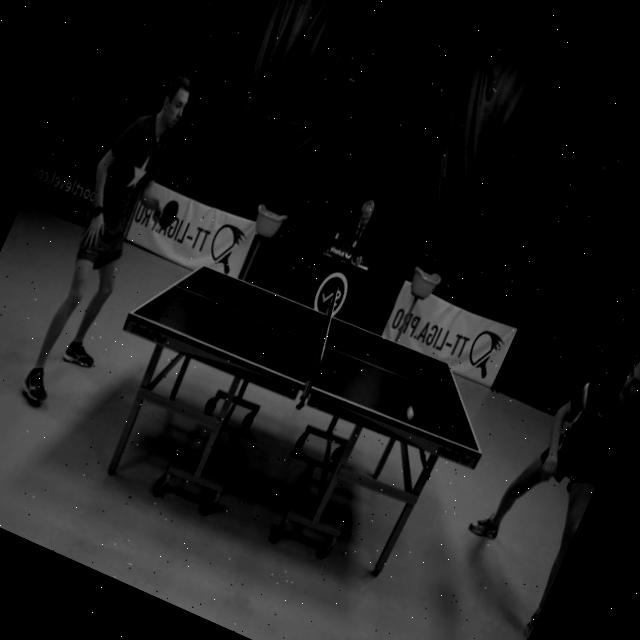ping-pong-ball: (402, 403, 420, 424)
